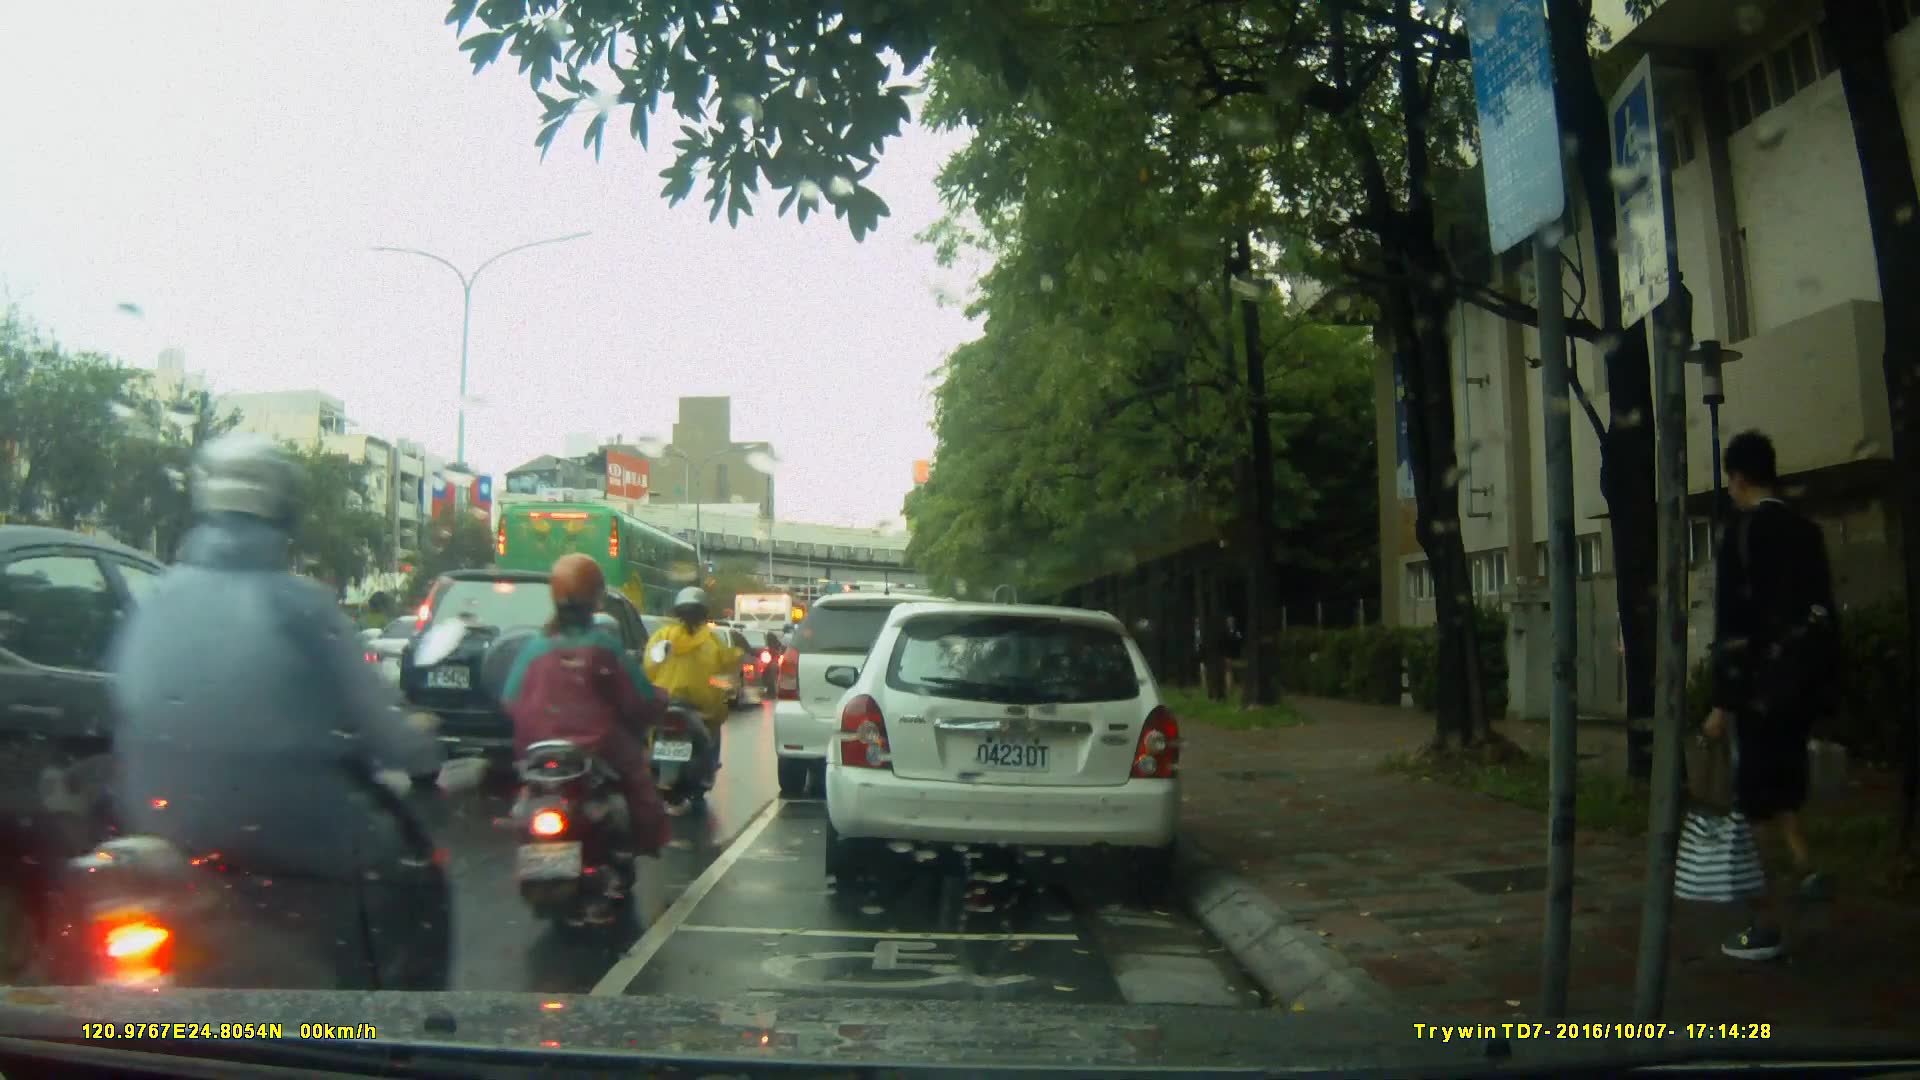pedestrian: (1665, 440, 1858, 991)
rider: (68, 428, 458, 1078), (503, 554, 660, 937), (173, 564, 285, 793), (646, 583, 743, 810)
vehicle: (5, 523, 386, 988), (831, 592, 1196, 897), (398, 566, 673, 798), (770, 592, 999, 800), (492, 498, 705, 658)
